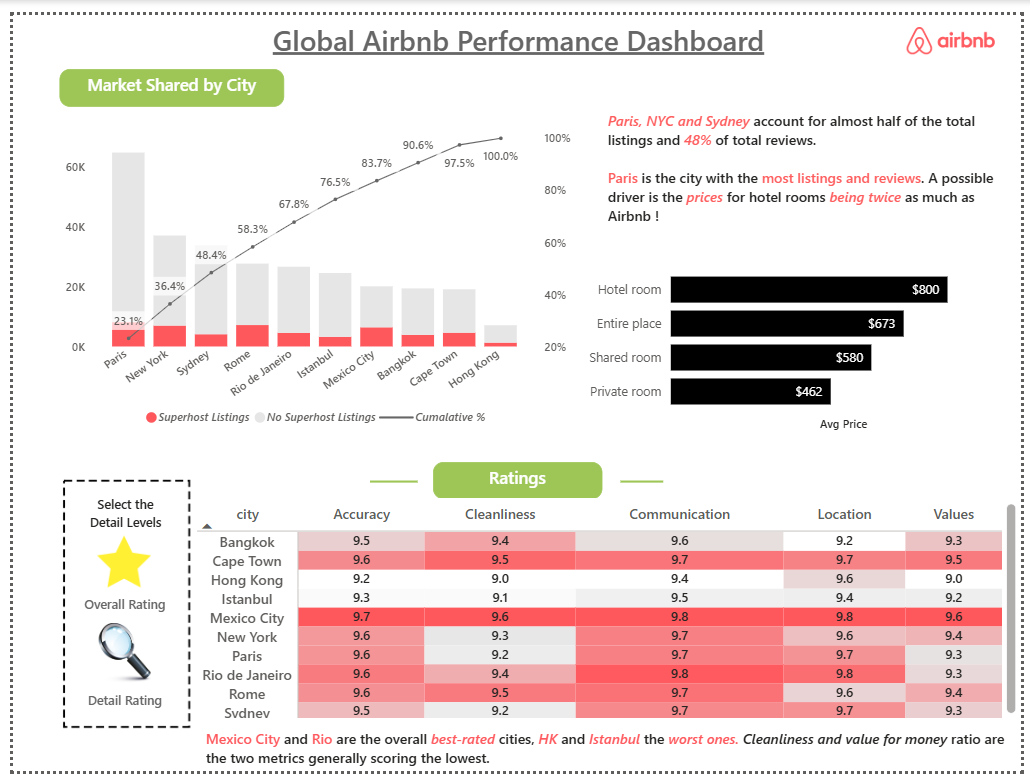

The page's visual inventory and layout, read from the dashboard file:
{"tool":"powerbi","page":{"name":"Ratings","canvas":[960,720],"ordinal":1},"visuals":[{"type":"textbox","box":[221.4,0,520,51.4],"z":0},{"type":"image","box":[845,11.2,95,26.2],"z":1000},{"type":"textbox","box":[44.3,51.4,214.3,35.7],"z":2000},{"type":"lineStackedColumnComboChart","fields":{"Category":["Listings.city"],"Y":["Listings.Superhost Listings","Listings.No Superhost Listings"],"Y2":["Listings.Cumulaive %"]},"box":[43.8,100.8,492.5,299.6],"z":3000},{"type":"barChart","fields":{"Y":["Listings.Avg Price"],"Category":["Listings.room_type"]},"box":[536.7,223.3,423.3,177.8],"z":4000},{"type":"textbox","box":[561.2,86.2,398.8,137.5],"z":5000},{"type":"image","box":[15,401.2,185,318.8],"z":7000},{"type":"textbox","box":[399.4,425,161.2,35],"z":8000},{"type":"image","box":[78.5,492.7,57.5,55],"z":8000,"group":"g1"},{"type":"shape","box":[340,416.4,45.5,57.3],"z":9000},{"type":"image","box":[78.5,576.5,57.5,60.8],"z":9000,"group":"g2"},{"type":"shape","box":[578.2,416.4,40.9,57.3],"z":10000},{"type":"pivotTable","fields":{"Rows":["Listings.city"],"Values":["Listings.Accuracy","Listings.Cleanliness","Listings.Communication","Listings.Location","Listings.Values"]},"box":[170,460,790,213.6],"z":11000},{"type":"textbox","box":[61.2,450,91.2,47.5],"z":12000},{"type":"group","id":"g1","title":"Group 1","box":[56.4,492.7,101.7,85.2],"z":13000},{"type":"group","id":"g2","title":"Group 2","box":[56.4,576.5,101.7,91],"z":14000},{"type":"textbox","box":[56.4,546.2,101.7,31.7],"z":15000,"group":"g1"},{"type":"textbox","box":[178.2,673.6,781.8,46.4],"z":15000},{"type":"textbox","box":[56.4,635.9,101.7,31.7],"z":16000,"group":"g2"}]}

Visuals, with their boxes in screenshot pixels (x1, y1, x2, y2), scaled from the page's 960x720 canvas onto the 1030x781 screenshot:
textbox: 238,0,795,56
image: 907,12,1009,41
textbox: 48,56,277,94
lineStackedColumnComboChart - Listings.city x Listings.Superhost Listings: 47,109,575,434
barChart - Listings.Avg Price x Listings.room_type: 576,242,1029,435
textbox: 602,94,1029,243
image: 16,435,215,780
textbox: 429,461,601,499
image: 84,534,146,594
shape: 365,452,414,514
image: 84,625,146,691
shape: 620,452,664,514
pivotTable - Listings.city x Listings.Accuracy: 182,499,1029,731
textbox: 66,488,164,540
"Group 1" group: 61,534,170,627
"Group 2" group: 61,625,170,724
textbox: 61,592,170,627
textbox: 191,731,1029,780
textbox: 61,690,170,724
